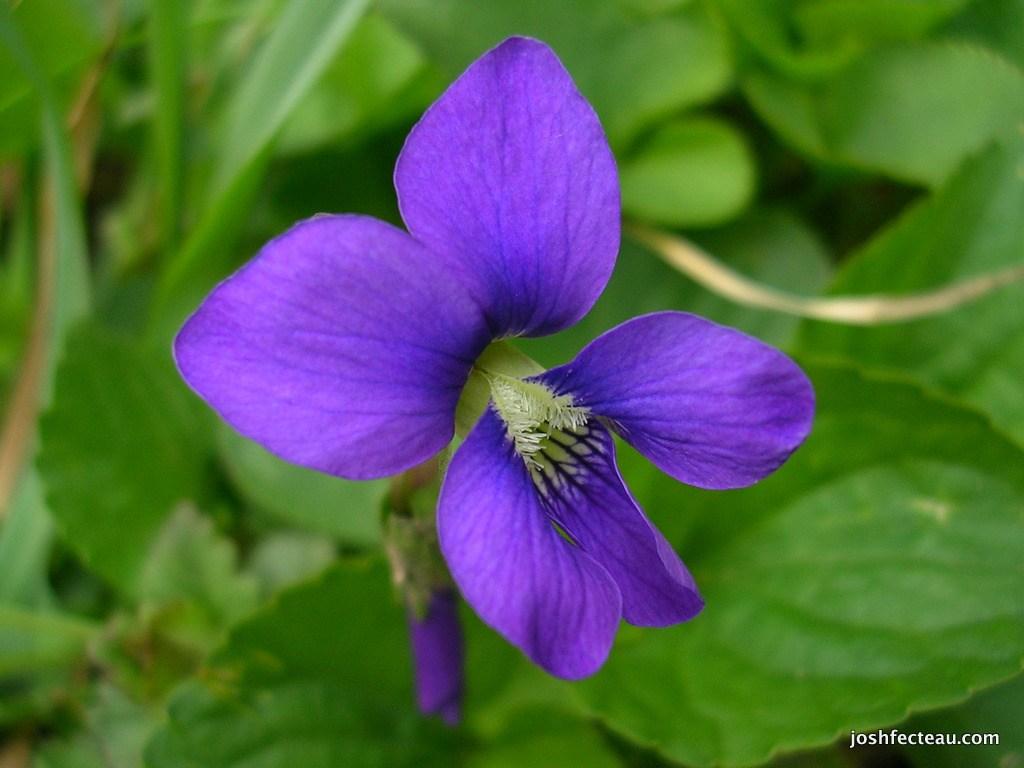violet: (185, 22, 832, 686)
